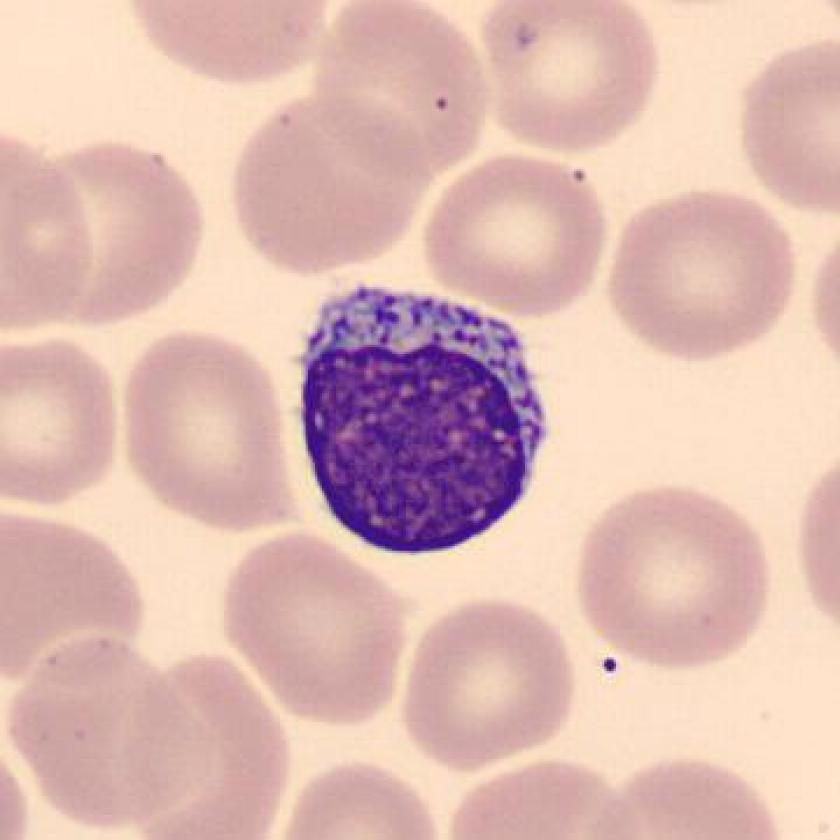lymphocyte: (276, 263, 568, 573)
